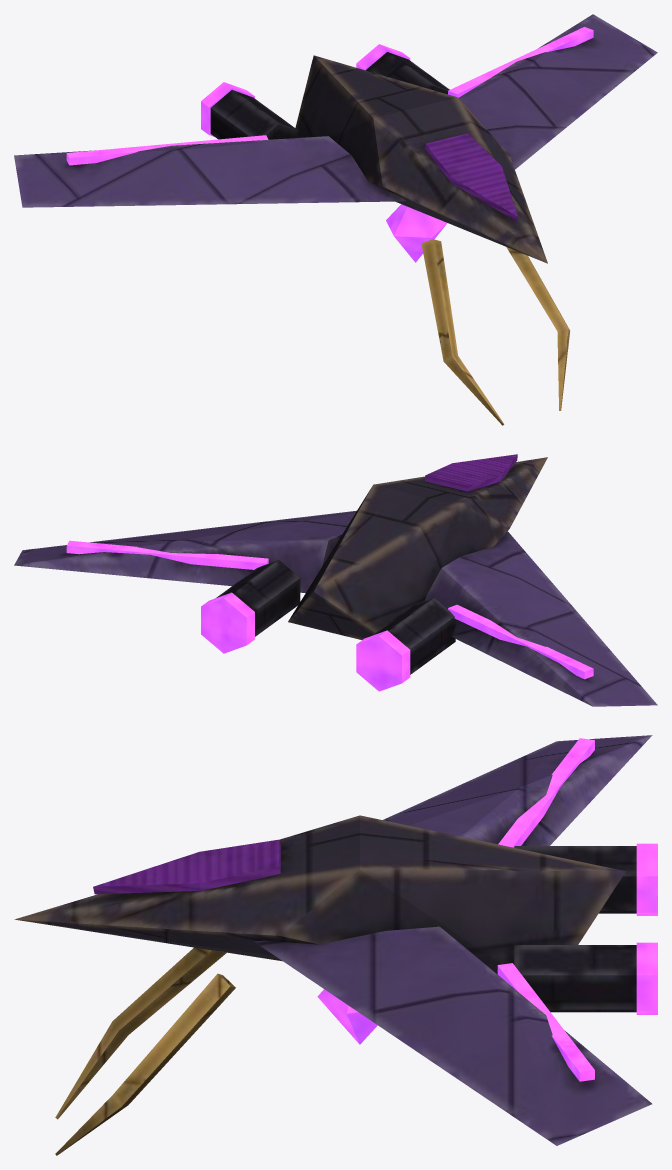
Rendered from e_wraith.glb.
3 views of the same model, one above another, from view 1: azimuth 30°, elevation 25°; view 2: azimuth 150°, elevation 25°; view 3: azimuth 270°, elevation 25° (orthographic). The views are drawn at different scales.
Parts seen in each view (by area): view 1: e_wraith; view 2: e_wraith; view 3: e_wraith.
Boxes of the visible parts, <box> form: e_wraith: <box>14,14,657,425</box>; e_wraith: <box>14,454,657,706</box>; e_wraith: <box>14,735,657,1155</box>.
Bounding box in the file's own units: 1.8 × 0.6116 × 1.21.
Materials: 1 (1 with a texture image).
